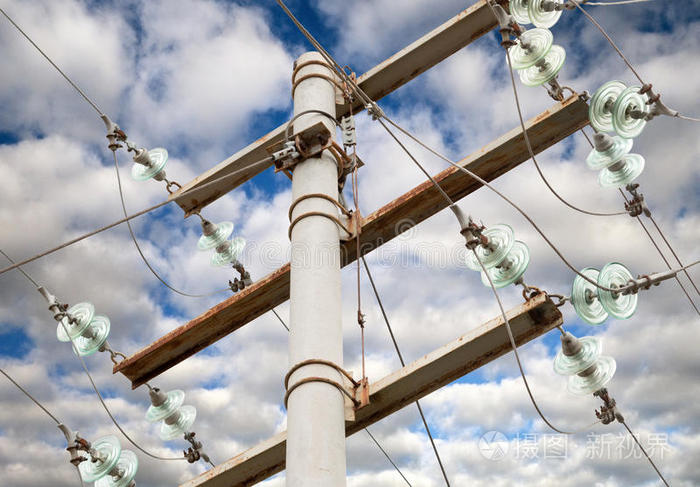insulator: (568, 263, 641, 320), (465, 225, 530, 288), (552, 335, 615, 399), (506, 28, 567, 89), (583, 136, 647, 190), (76, 433, 137, 487), (590, 82, 646, 135), (54, 304, 106, 355), (142, 392, 195, 442), (195, 220, 246, 269), (128, 148, 169, 187), (508, 1, 569, 27)
